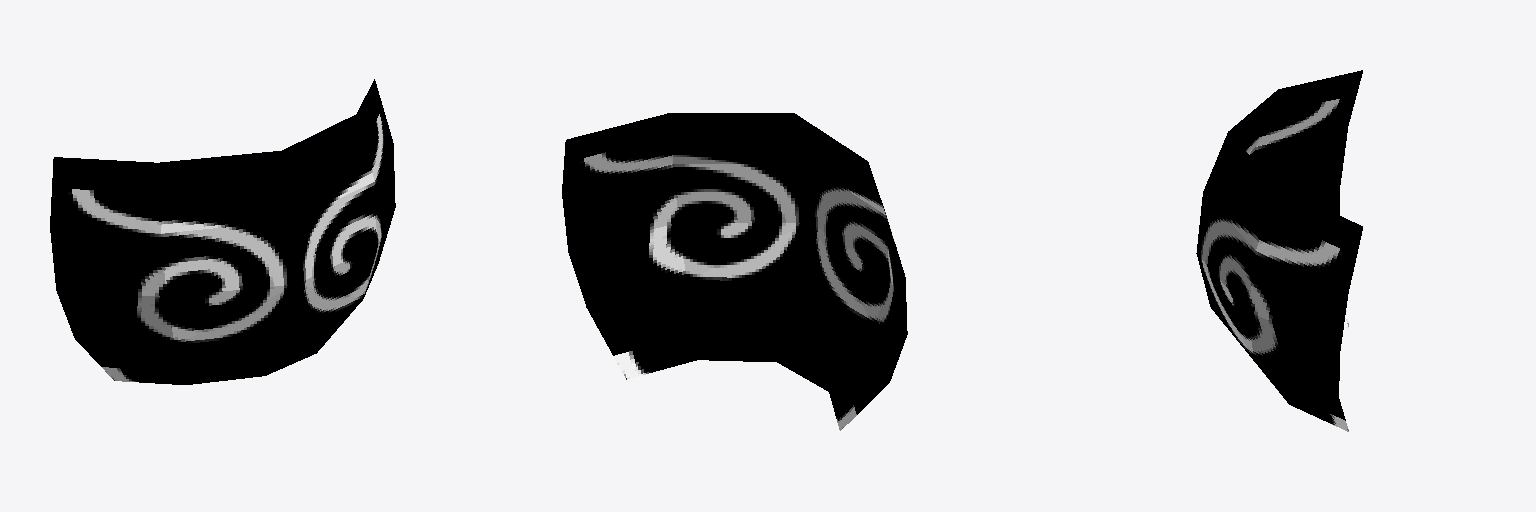
3 views of the same model, side by side, from view 1: azimuth 30°, elevation 25°; view 2: azimuth 150°, elevation 25°; view 3: azimuth 270°, elevation 25° (orthographic).
Visible parts, largest first — view 1: polygon0; view 2: polygon0; view 3: polygon0.
Part boxes in pixels (bbox=[...]): polygon0: bbox=[50, 79, 395, 384]; polygon0: bbox=[562, 113, 907, 430]; polygon0: bbox=[1196, 70, 1362, 431].
Bounding box in the file's own units: 4.04 × 2.79 × 1.7.
1 materials, 1 textured.